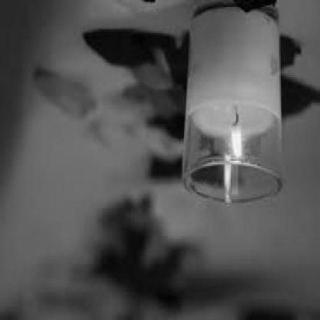Fire: (219, 119, 251, 169)
